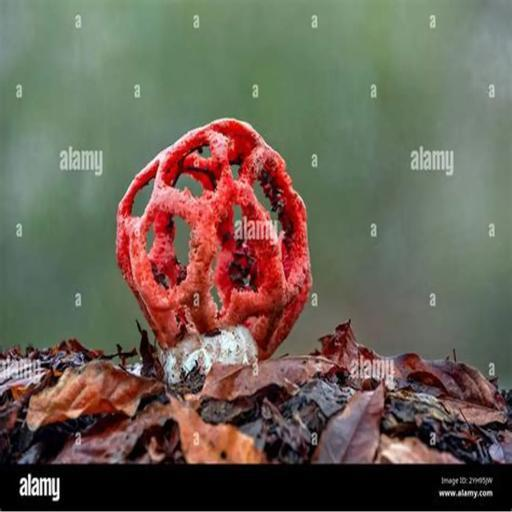mushroom: (79, 97, 352, 397)
